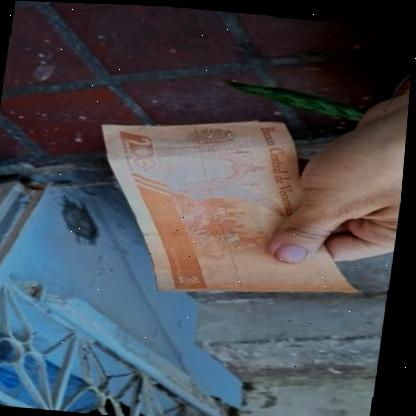twenty-back-vef: (82, 103, 387, 308)
